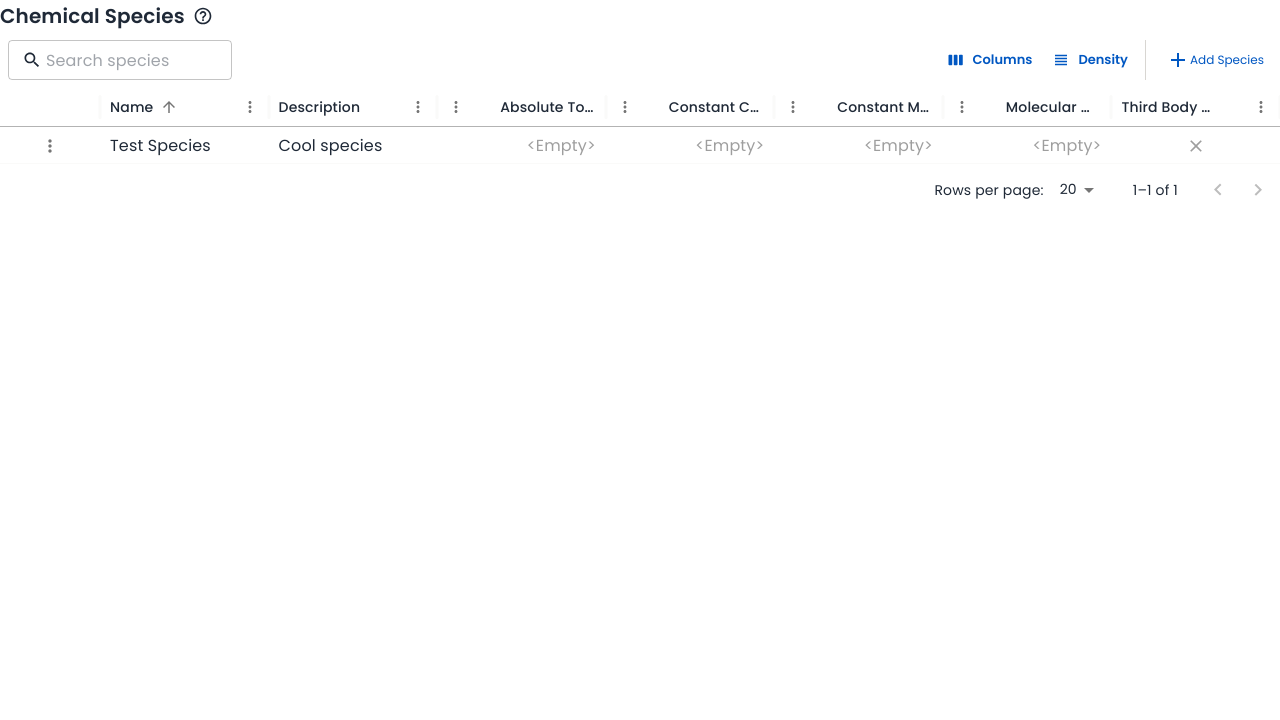
it: SpeciesView › Blocks saving mutually exclusive species options
The width and height of the screenshot is (1280, 720).
Click the button with test id "add-species-button" at (1215, 60), box [1158,42,1272,78]
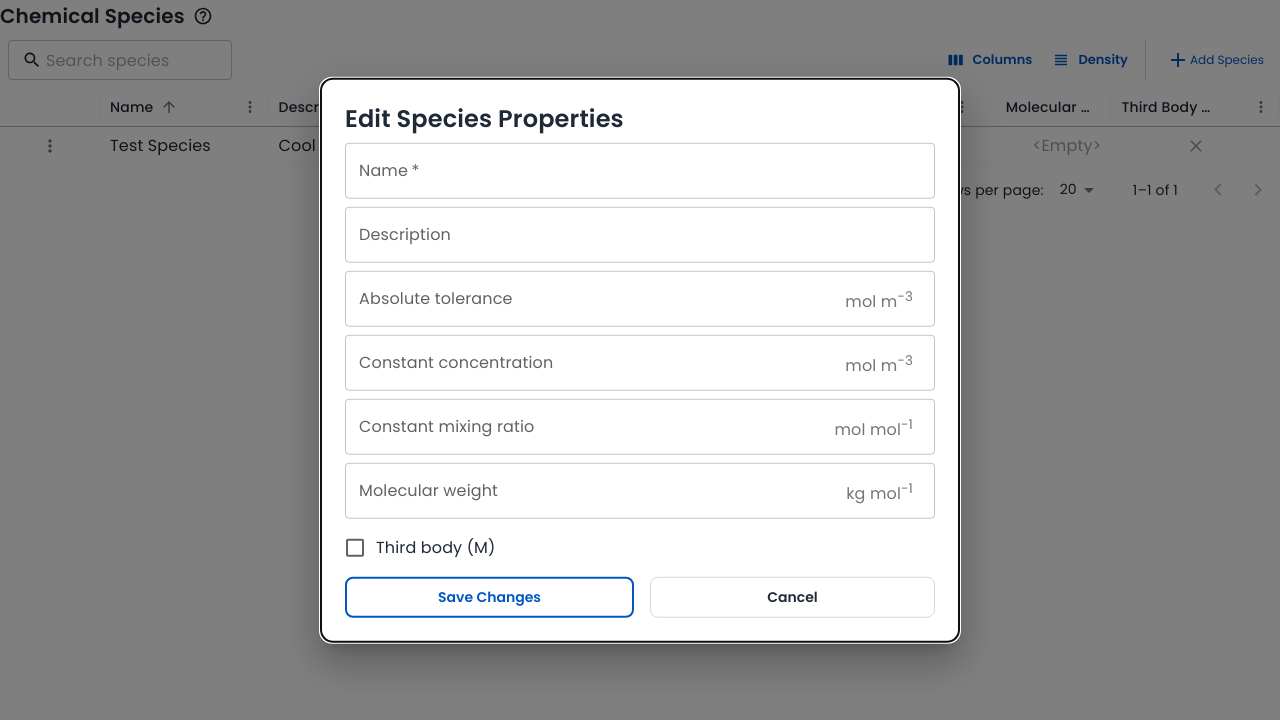
Type "Test Species" into the field labelled "Name *" at (640, 171), box [345,143,935,199]
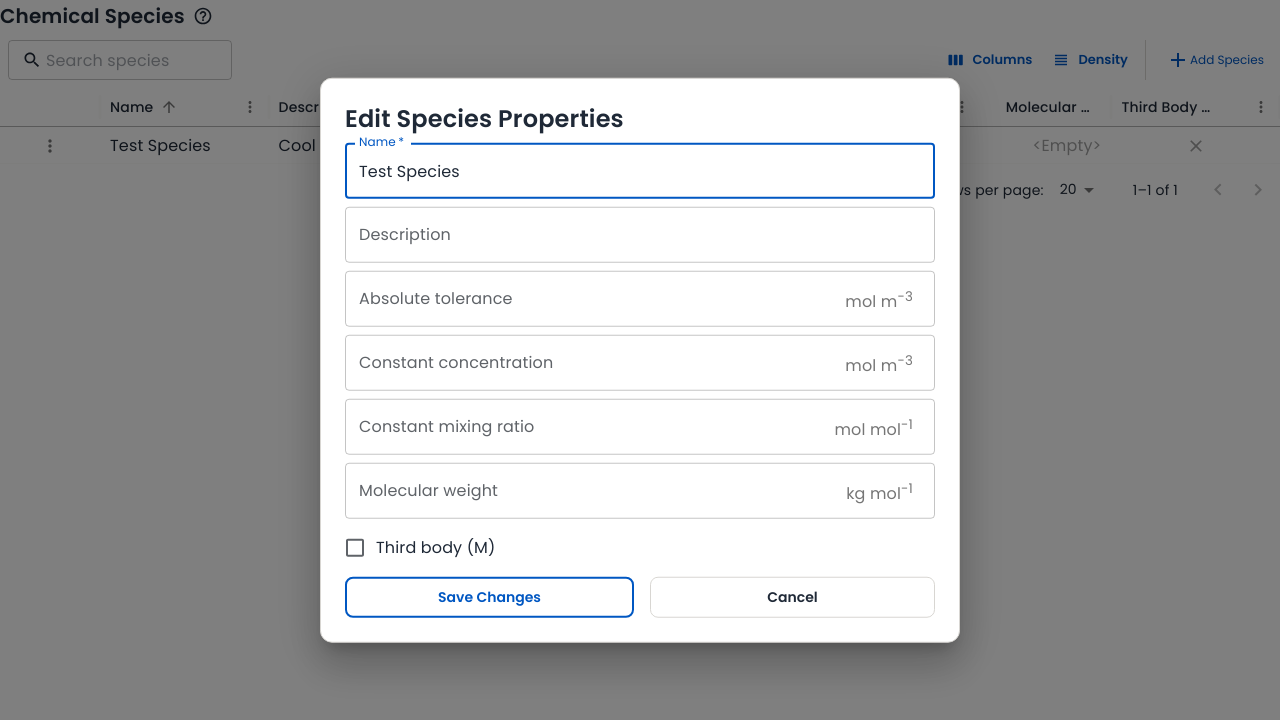
Type "1.5" into the number field labelled "Constant concentration" at (595, 363), box [345,335,845,391]
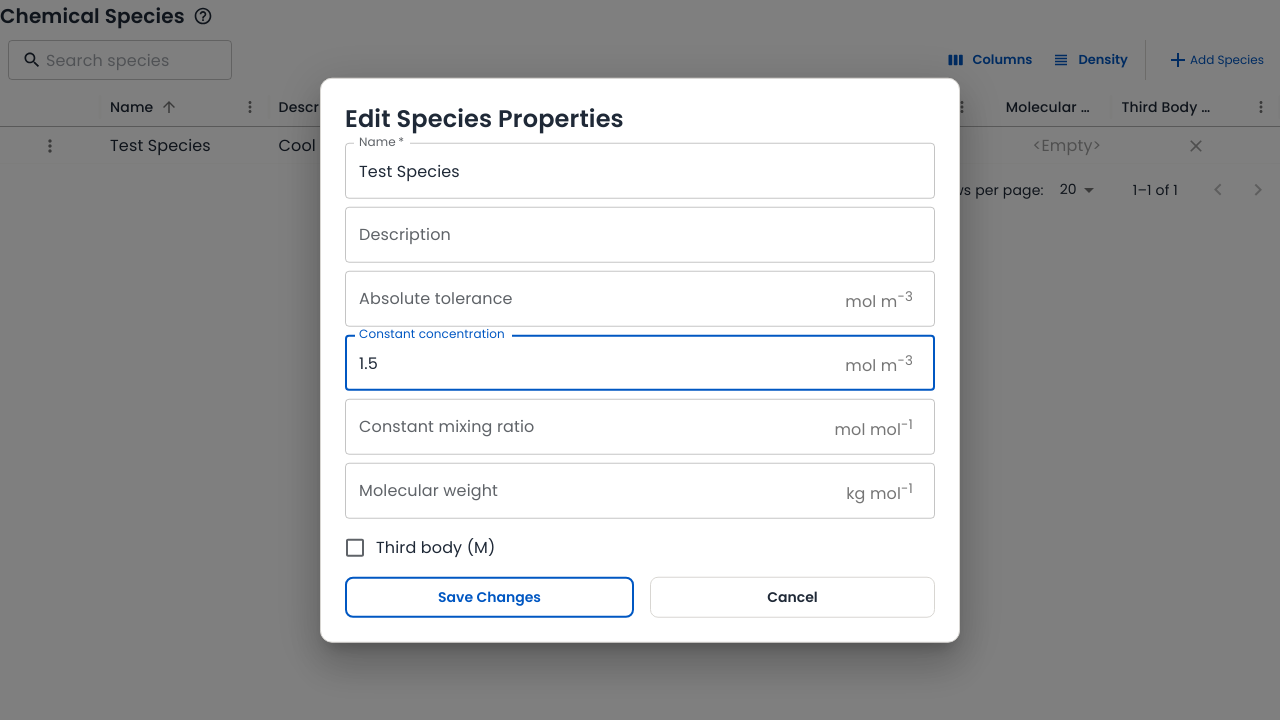
Click the checkbox labelled "Third body (M)" at (419, 548), box [343,536,496,560]
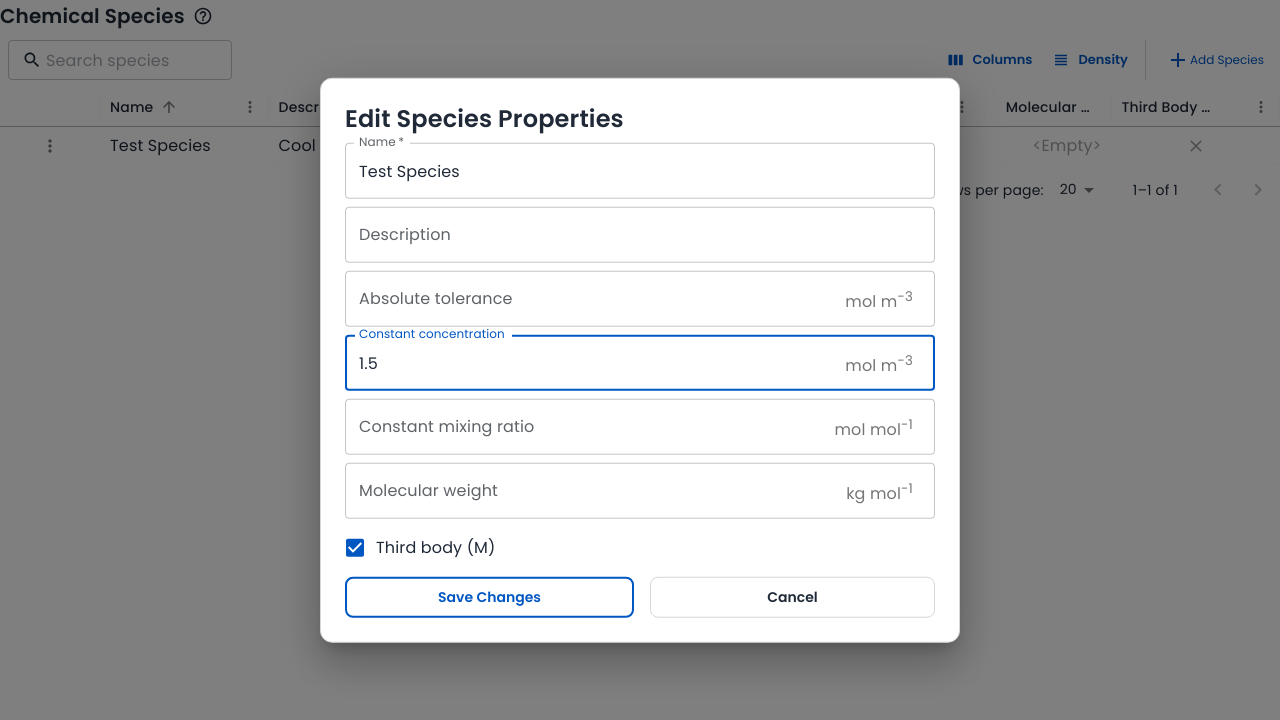
Click the button with test id "save-species-changes" at (490, 597), box [345,577,634,617]
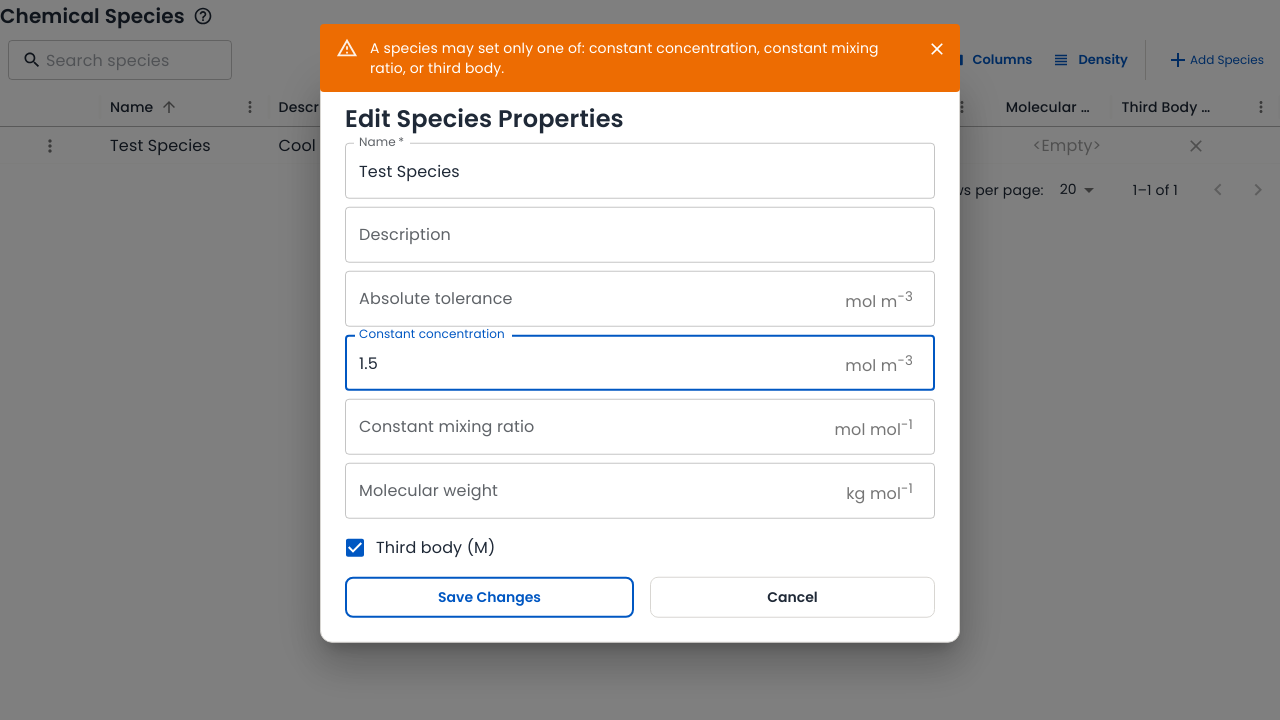
Result: the text "only one of" is shown at [370,38,879,78]
